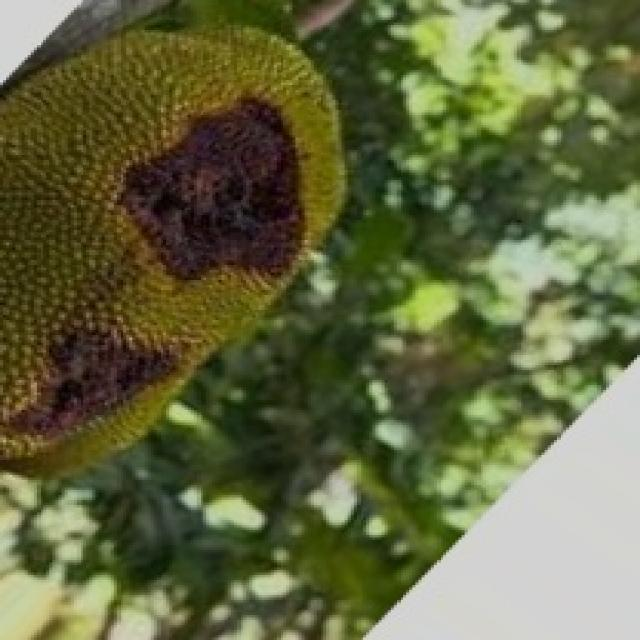Fruit: (0, 0, 375, 335), (252, 0, 640, 290)
